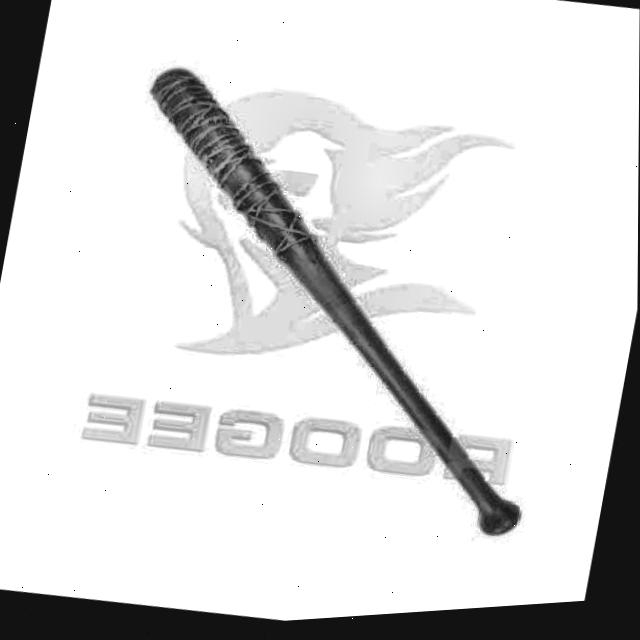tongkat pemukul: (138, 51, 537, 545)
